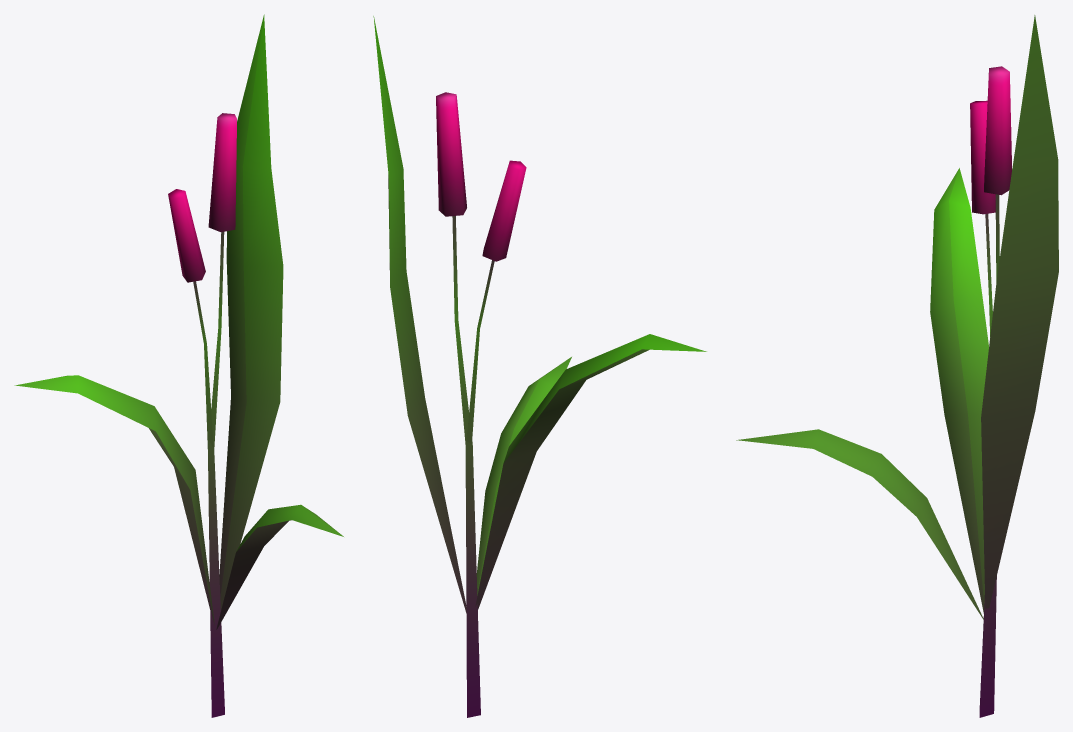
The model's file is Reed_1A.fbx.
3 views of the same model, side by side, from view 1: azimuth 30°, elevation 25°; view 2: azimuth 150°, elevation 25°; view 3: azimuth 270°, elevation 25° (orthographic). The views are drawn at different scales.
Parts seen in each view (by area): view 1: Reed_1A; view 2: Reed_1A; view 3: Reed_1A.
Boxes of the visible parts, box(x1,y1,x2,y2) form: Reed_1A: box(14, 14, 343, 717); Reed_1A: box(373, 16, 706, 717); Reed_1A: box(736, 15, 1058, 717).
Bounding box in the file's own units: 73.09 × 163 × 64.55.
